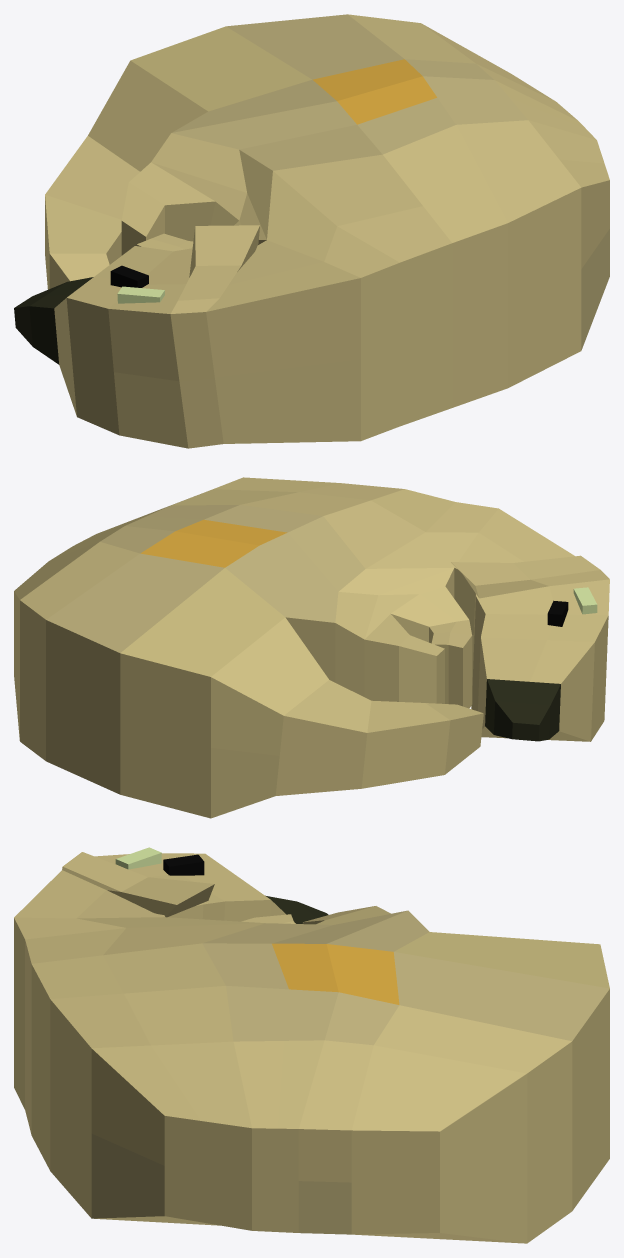
Rendered from dog(1).fbx.
3 views of the same model, one above another, from view 1: azimuth 30°, elevation 25°; view 2: azimuth 150°, elevation 25°; view 3: azimuth 270°, elevation 25° (orthographic). The views are drawn at different scales.
Parts seen in each view (by area): view 1: Cube.004, Cube.006, Cube.005; view 2: Cube.004, Cube.006, Cube.005; view 3: Cube.004, Cube.005, Cube.006.
Boxes of the visible parts, box(x1,y1,x2,y2) form: Cube.004: box(14, 14, 609, 448); Cube.006: box(117, 286, 164, 303); Cube.005: box(110, 265, 148, 287); Cube.004: box(14, 477, 609, 818); Cube.006: box(573, 587, 597, 614); Cube.005: box(547, 600, 568, 626); Cube.004: box(14, 852, 609, 1243); Cube.005: box(163, 854, 204, 875); Cube.006: box(115, 847, 161, 869).
Size of the model in its own units: 296 by 101 by 262.
